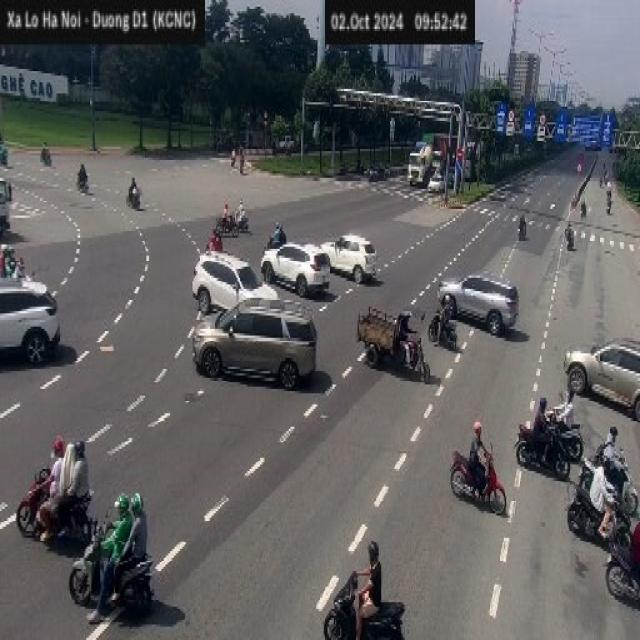car: (191, 290, 322, 392), (564, 322, 638, 422), (0, 273, 65, 372), (441, 265, 519, 329), (264, 235, 334, 299), (324, 235, 384, 290), (426, 176, 449, 214)
container-truck: (437, 126, 480, 178), (408, 128, 438, 192)
motorcycle: (65, 544, 156, 618), (17, 478, 95, 542), (442, 447, 510, 519), (329, 574, 400, 640), (570, 495, 630, 546), (520, 421, 572, 474), (598, 534, 640, 593), (398, 332, 438, 388), (589, 454, 640, 492), (213, 221, 241, 245), (122, 186, 146, 212), (227, 148, 248, 170), (237, 211, 254, 236), (604, 203, 619, 225), (39, 150, 56, 169), (74, 178, 94, 193), (572, 209, 592, 224), (236, 166, 252, 184), (562, 233, 578, 250), (518, 227, 530, 244)
person: (360, 540, 387, 622), (129, 493, 156, 572), (46, 425, 69, 509), (107, 482, 130, 564), (58, 425, 81, 500), (592, 445, 614, 520), (468, 417, 488, 493), (70, 437, 92, 500), (563, 368, 582, 430), (604, 421, 628, 469), (627, 512, 640, 597), (4, 245, 25, 282), (534, 397, 552, 439), (275, 213, 291, 248), (72, 144, 87, 181), (202, 227, 224, 251), (270, 197, 281, 243), (518, 200, 530, 237), (0, 238, 10, 282), (40, 136, 55, 159), (220, 202, 232, 230), (130, 166, 139, 200), (606, 179, 616, 205), (565, 213, 575, 236), (226, 146, 237, 162), (237, 148, 247, 164), (579, 190, 586, 208)
